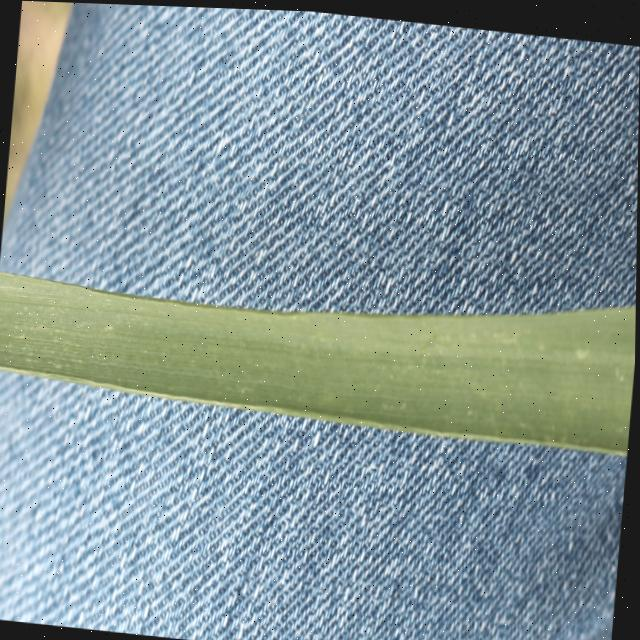healthy_wheat: (0, 199, 638, 463)
